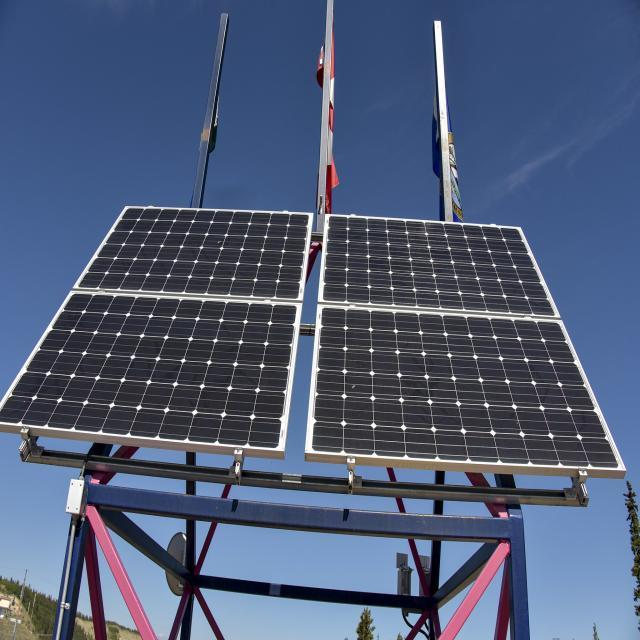no faulty: (315, 307, 623, 467), (5, 293, 289, 441), (83, 207, 308, 298), (327, 219, 556, 306)
